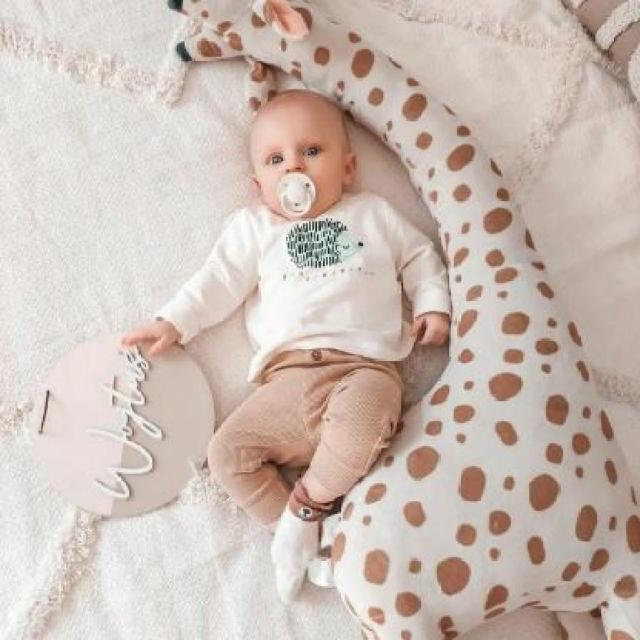baby: (120, 89, 451, 600)
